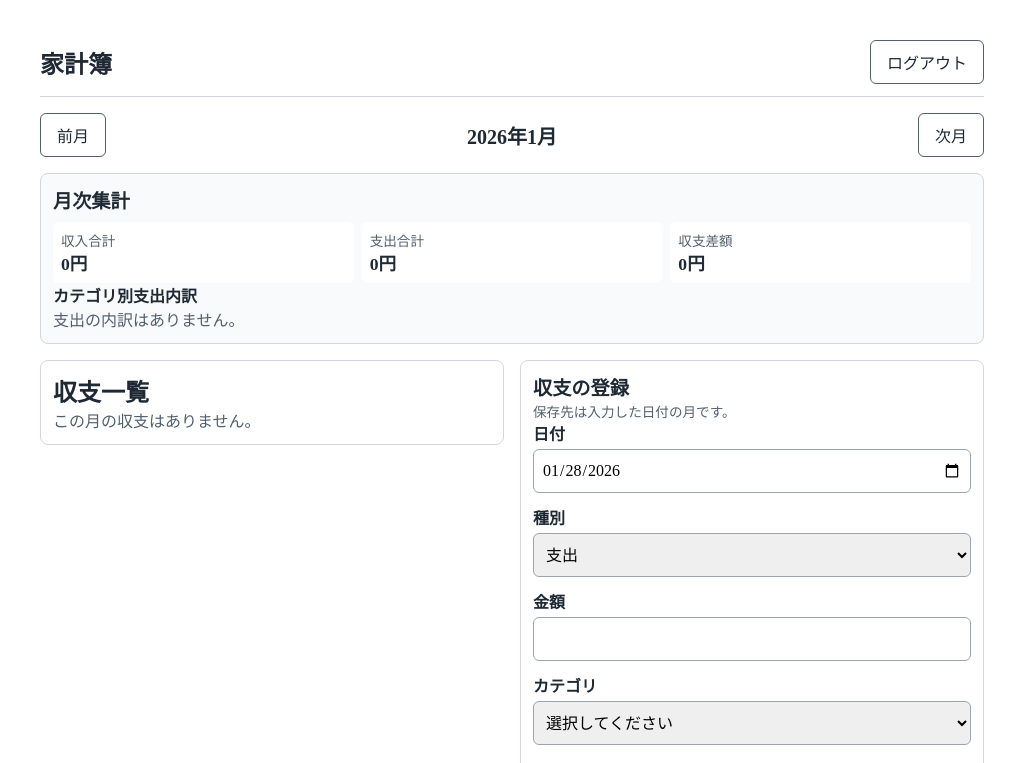
月次画面の取得と表示 › moves across the year boundary（T02）
The width and height of the screenshot is (1024, 763).
Expected: the heading "月次集計" is shown, [53,191,130,212]
What coordinates should you click on to do the following:
click the button "前月"
I would click on:
 (73, 135)
Its box is [40,113,106,157].
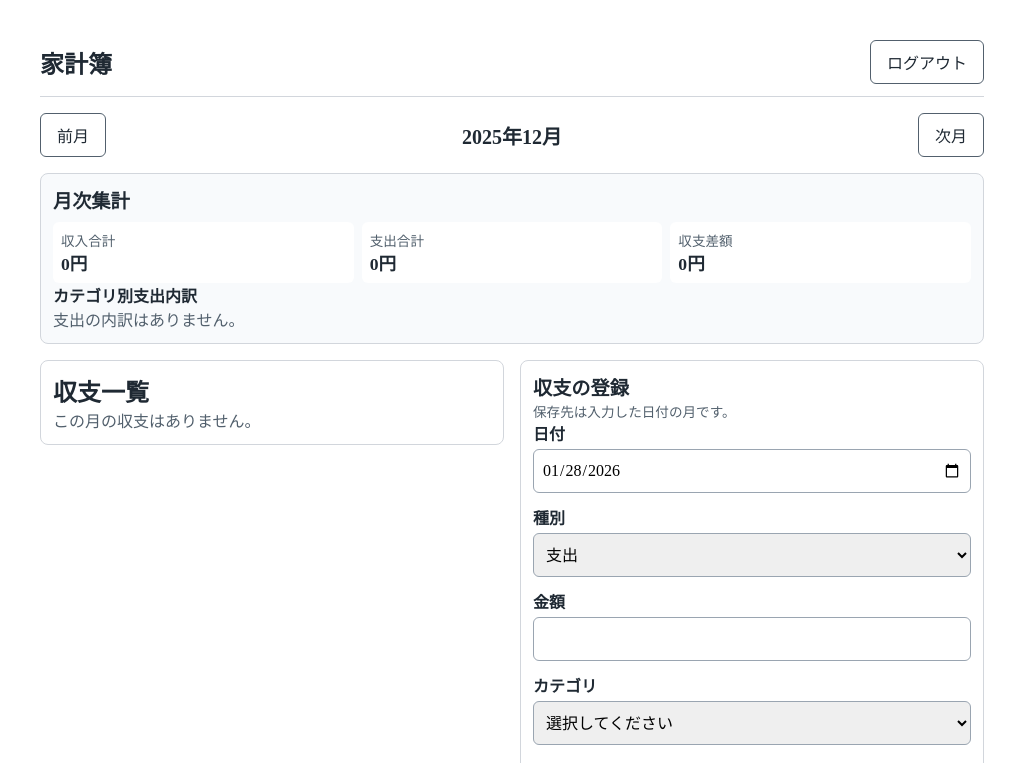
Result: the heading "2025年12月" is shown at [462,126,562,148]
